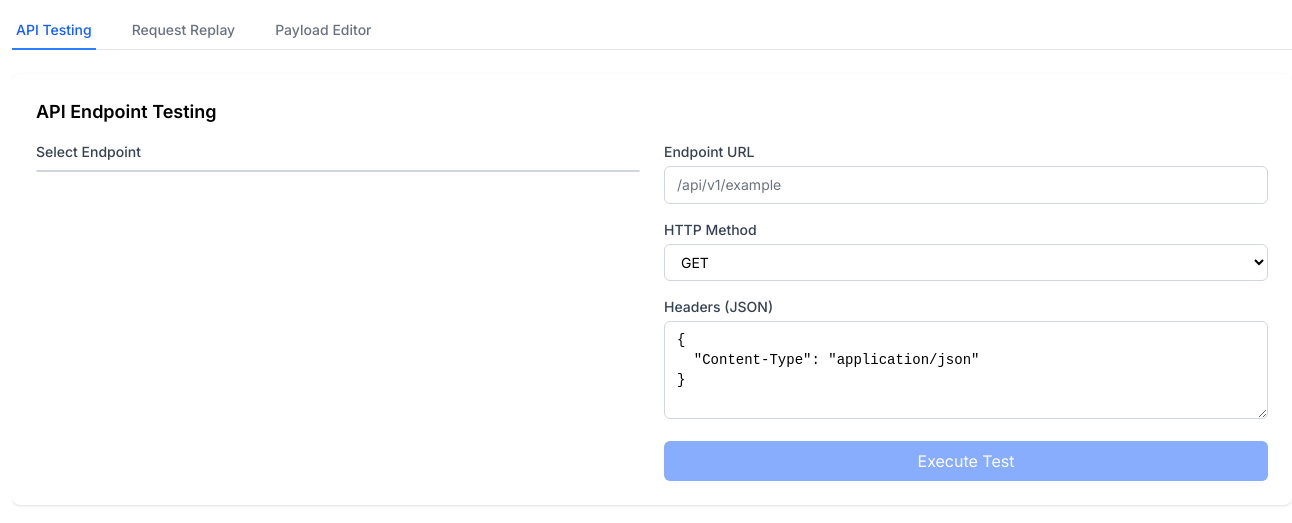
Test: DebuggingToolsInterface › switches to Request Replay tab
This screenshot has width=1292, height=523.
Step 1. Click the button "Request Replay" → (183,31), box 128,12 -> 239,50
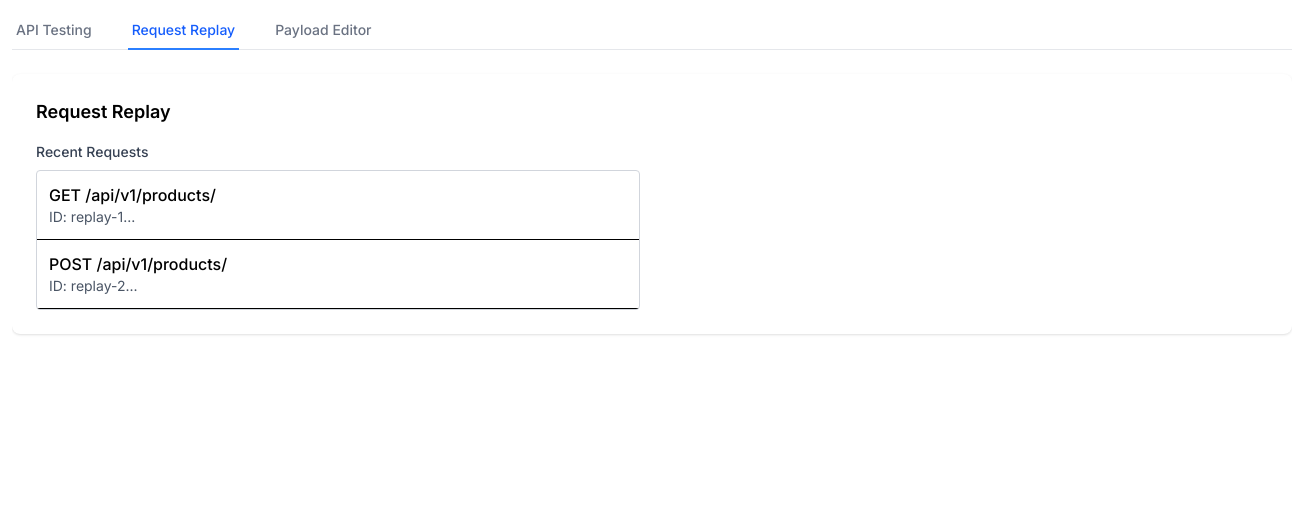
Result: the text "Recent Requests" is shown at 36,143 -> 148,160
